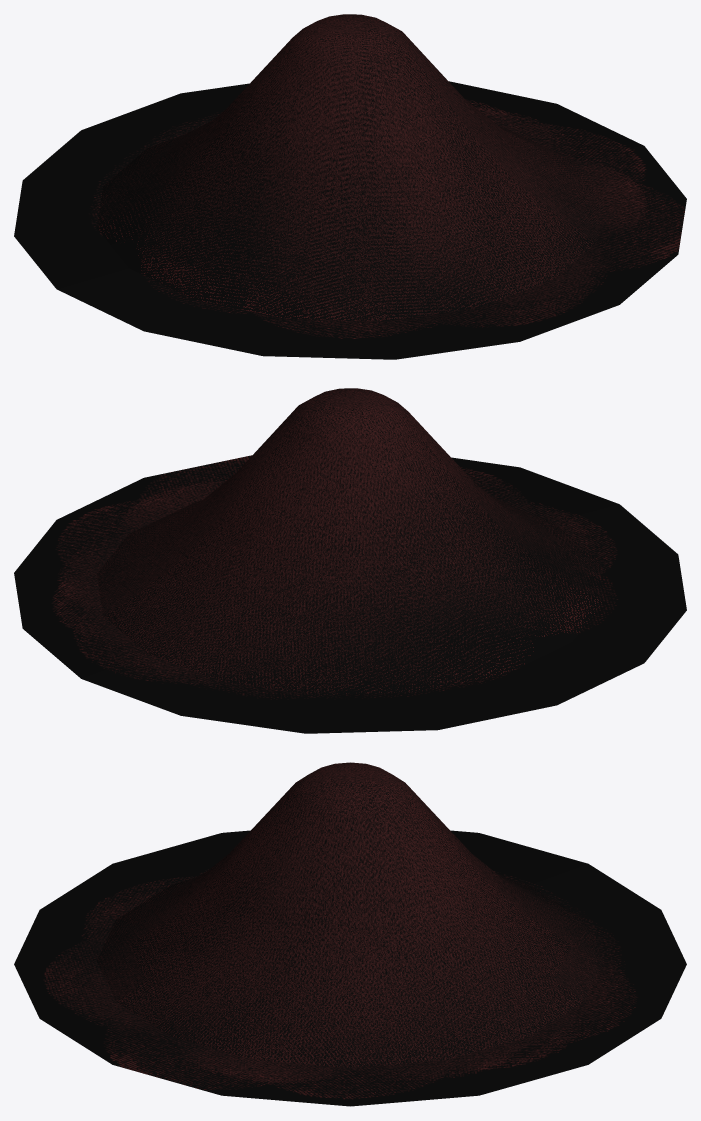
Rendered from coffee.fbx.
The picture shows the model from 3 angles, top to bottom: view 1: azimuth 30°, elevation 25°; view 2: azimuth 150°, elevation 25°; view 3: azimuth 270°, elevation 25°; orthographic projection.
Parts seen in each view (by area): view 1: Circle; view 2: Circle; view 3: Circle.
Boxes of the visible parts, left/top/right/bottom form: Circle: left=14, top=14, right=686, bottom=359; Circle: left=14, top=388, right=686, bottom=733; Circle: left=14, top=762, right=686, bottom=1106.
Size of the model in its own units: 258 by 80.21 by 258.
